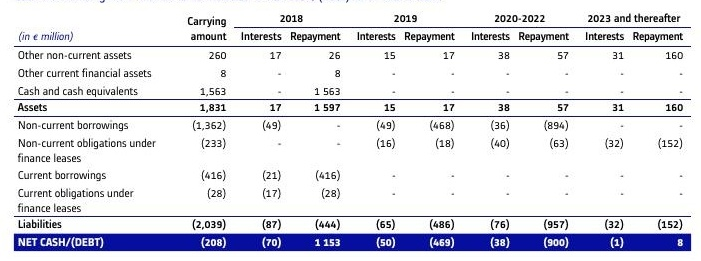table: (0, 0, 701, 261)
